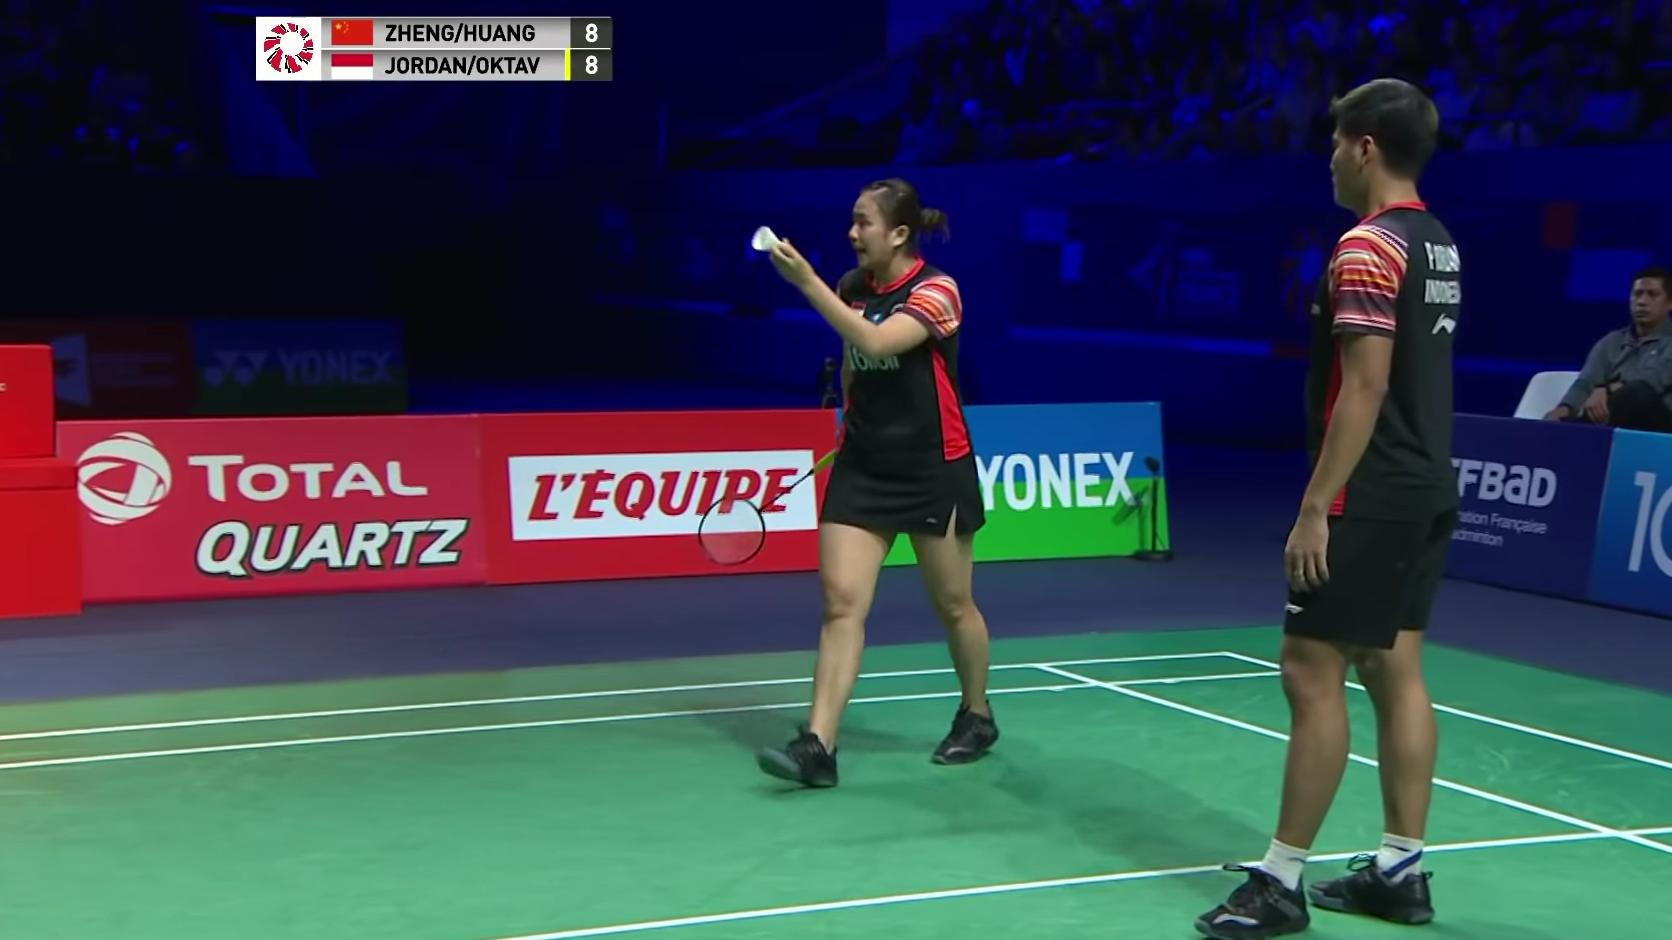racket: (675, 484, 790, 575)
shuttle: (738, 218, 802, 274)
